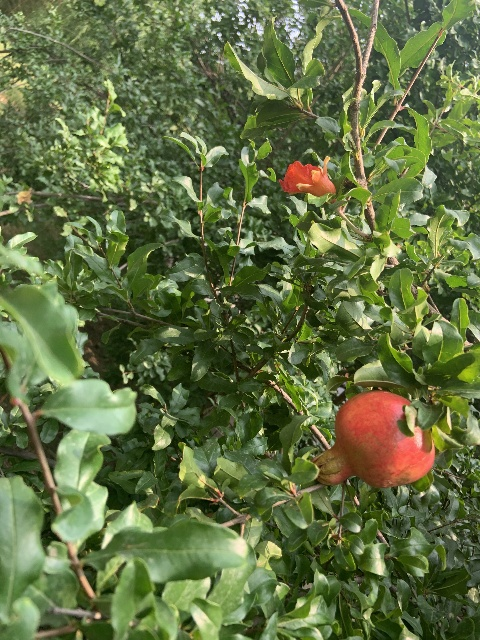flower: (278, 155, 336, 204)
ripe: (312, 390, 434, 489)
